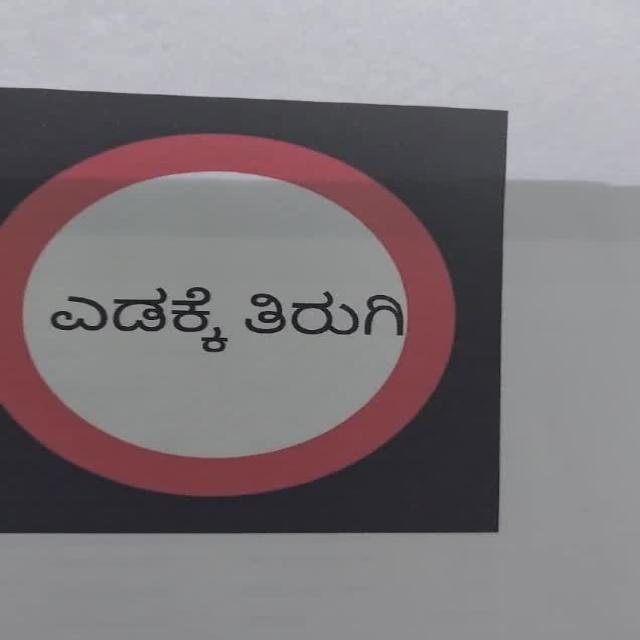kannadleft: (2, 141, 458, 496), (36, 262, 402, 370), (39, 271, 239, 359)
